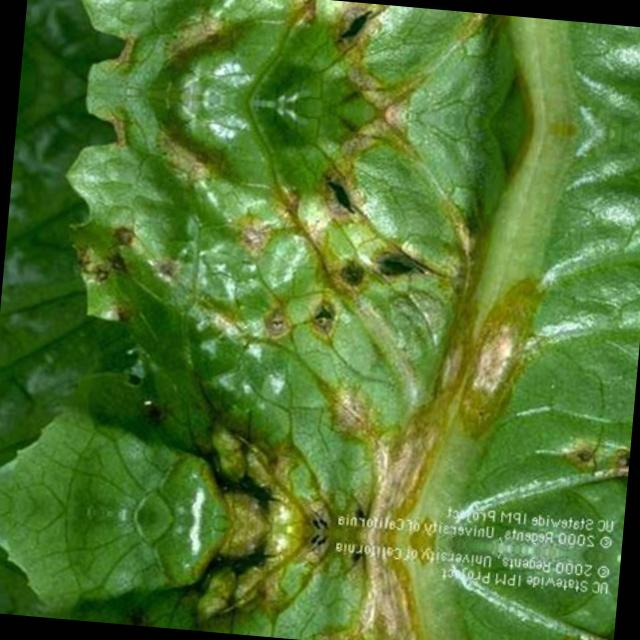Lettuce - Anthracnose: (54, 88, 640, 519), (88, 0, 640, 134), (42, 545, 613, 640)
